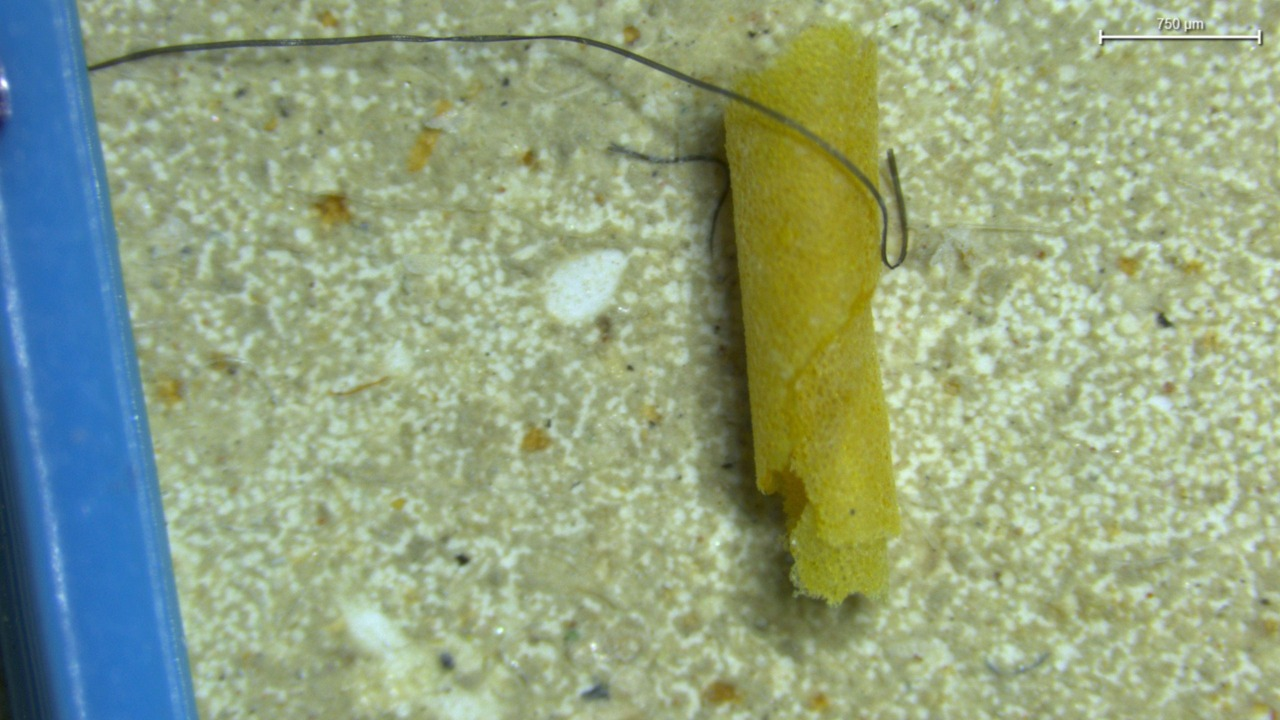microplastic_fragment: (724, 102, 899, 602), (736, 27, 879, 180)
